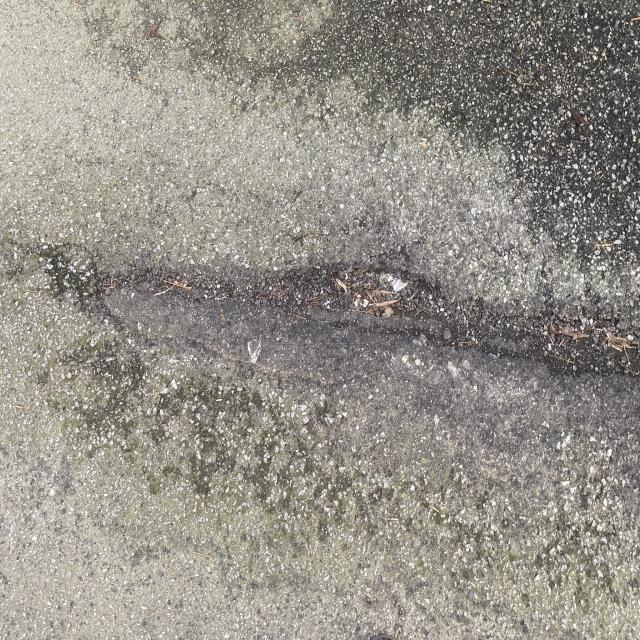Pothole: (54, 168, 632, 379)
